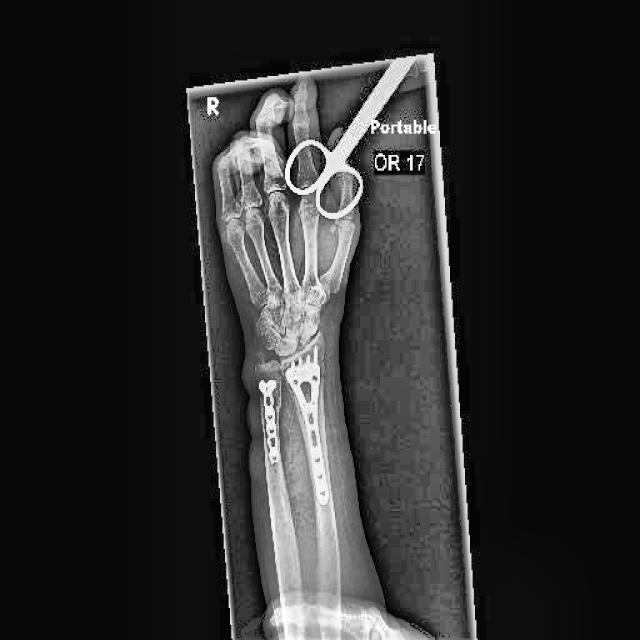fingers positive: (299, 339, 334, 401), (251, 371, 290, 423)
